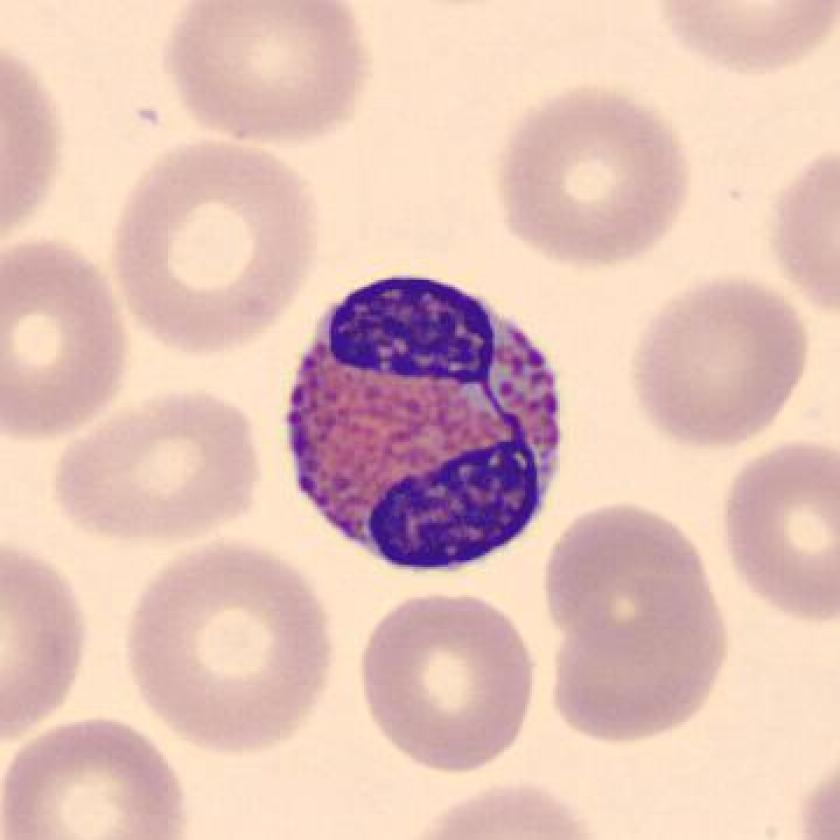eosinophil: (269, 263, 575, 580)
